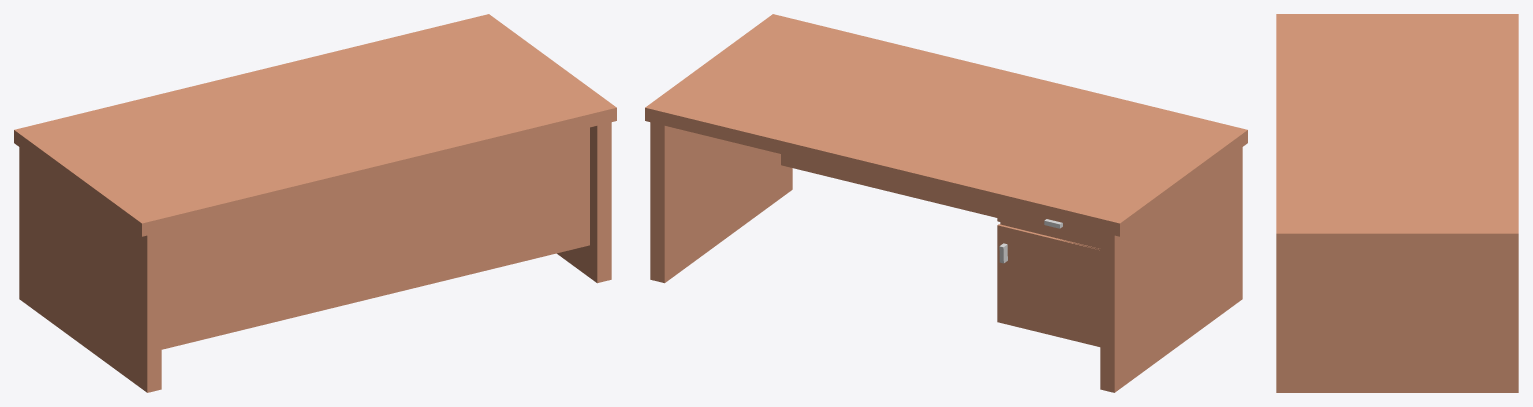
The model's file is meja3cream.glb.
3 views of the same model, side by side, from view 1: azimuth 30°, elevation 25°; view 2: azimuth 150°, elevation 25°; view 3: azimuth 270°, elevation 25° (orthographic). The views are drawn at different scales.
Parts seen in each view (by area): view 1: Cube; view 2: Cube, Cube.001; view 3: Cube.
Boxes of the visible parts, box(x1,y1,x2,y2) form: Cube: box(14, 14, 616, 392); Cube: box(645, 14, 1247, 392); Cube.001: box(997, 207, 1100, 346); Cube: box(1276, 14, 1518, 392).
Bounding box in the file's own units: 0.692 × 0.2378 × 0.3229.
